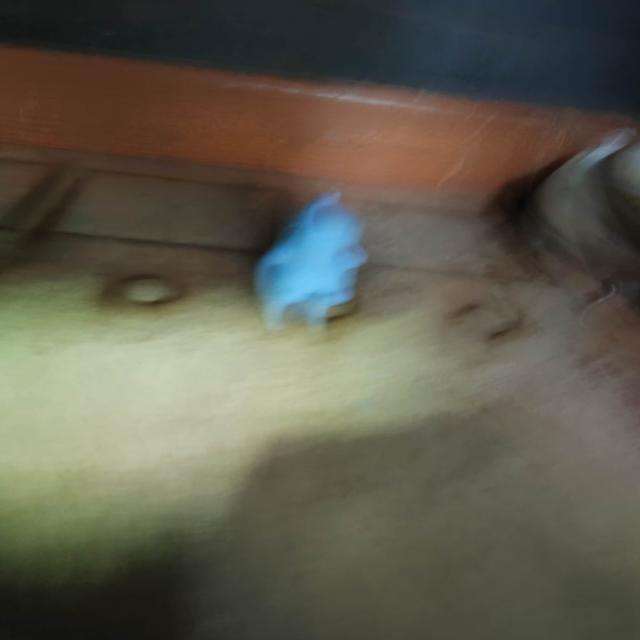DINO: (219, 180, 382, 343)
